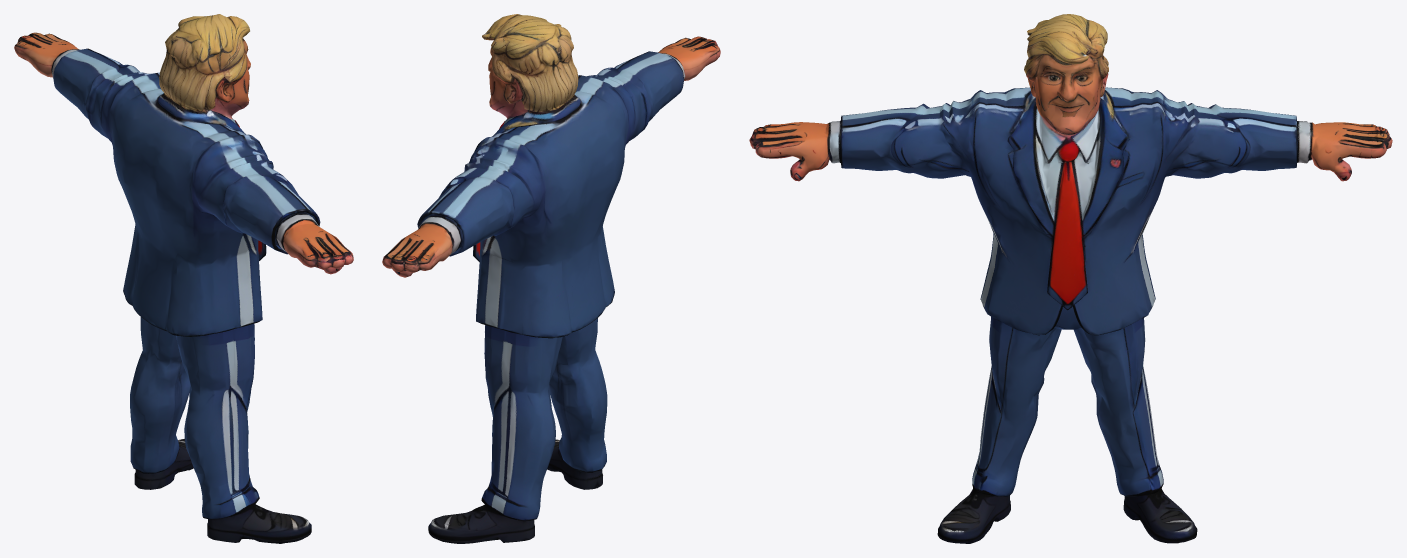
Rendered from Don_base.fbx.
3 renders of one model, left to right at view 1: azimuth 30°, elevation 25°; view 2: azimuth 150°, elevation 25°; view 3: azimuth 270°, elevation 25°, orthographic. The views are drawn at different scales.
Visible parts, largest first — view 1: tripo_node_4317558a; view 2: tripo_node_4317558a; view 3: tripo_node_4317558a.
Part boxes in pixels (left/top/right/bottom): tripo_node_4317558a: left=14, top=14, right=353, bottom=543; tripo_node_4317558a: left=382, top=14, right=720, bottom=543; tripo_node_4317558a: left=749, top=14, right=1392, bottom=543.
Size of the model in its own units: 0.2188 by 0.8626 by 1.
1 material, 1 textured.
